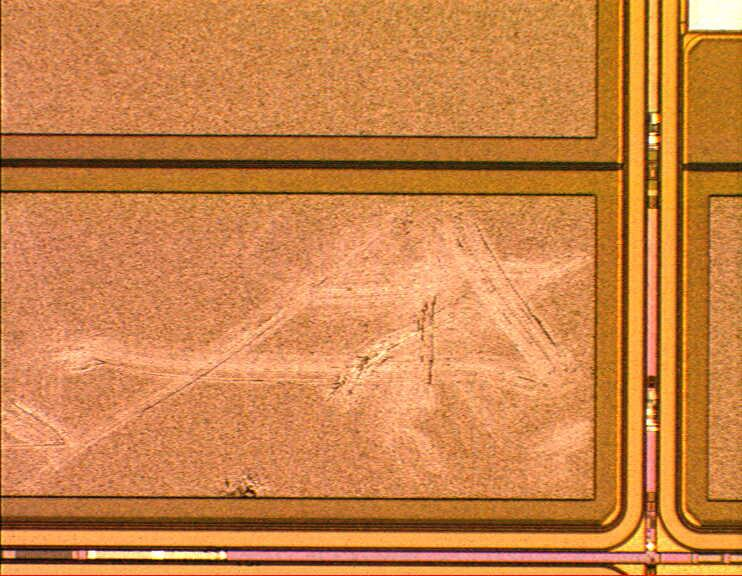SCRATCH: (1, 45, 597, 531)
